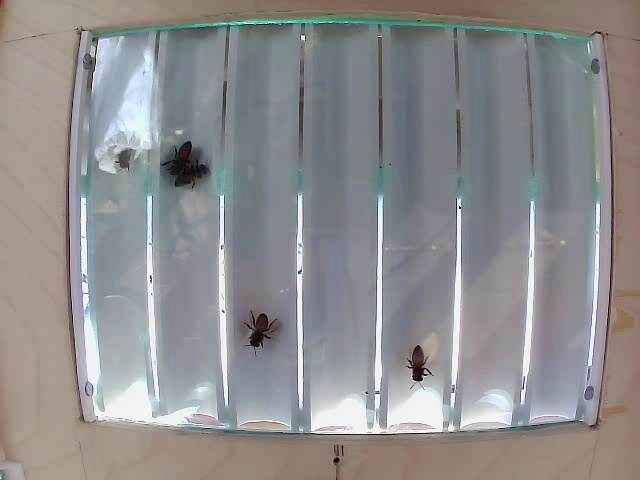bee: (236, 311, 287, 351), (407, 341, 438, 395), (165, 162, 204, 196), (169, 143, 203, 178), (101, 145, 137, 176)
